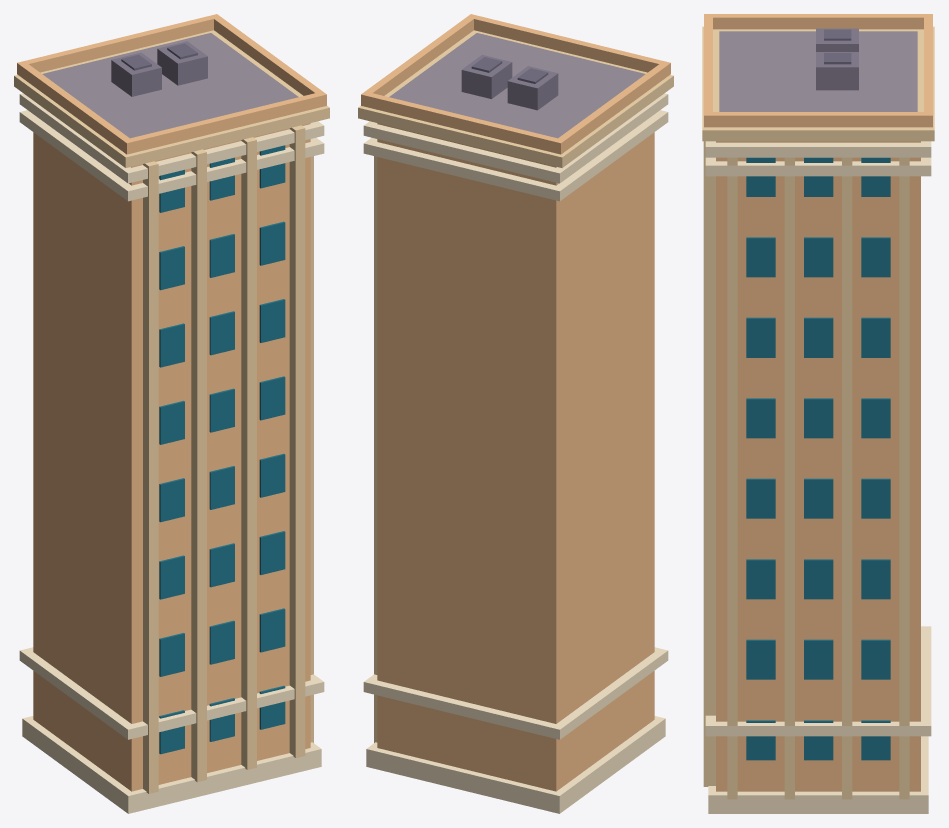
The model's file is Building_Orange_Office_Tall.glb.
3 views of the same model, side by side, from view 1: azimuth 30°, elevation 25°; view 2: azimuth 150°, elevation 25°; view 3: azimuth 270°, elevation 25° (orthographic). The views are drawn at different scales.
Visible parts, largest first — view 1: Building_Orange_Office_Tall; view 2: Building_Orange_Office_Tall; view 3: Building_Orange_Office_Tall.
Part boxes in pixels (bbox=[...]): Building_Orange_Office_Tall: bbox=[14, 14, 329, 813]; Building_Orange_Office_Tall: bbox=[358, 14, 673, 813]; Building_Orange_Office_Tall: bbox=[702, 14, 934, 813].
Size of the model in its own units: 3.59 by 11.59 by 3.4.
